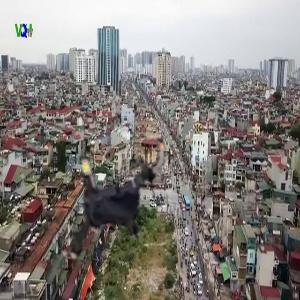drone: (39, 127, 189, 277)
